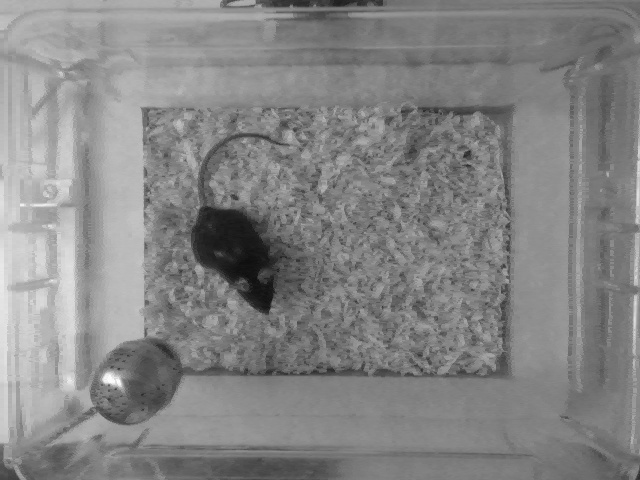mice: (183, 130, 292, 320)
